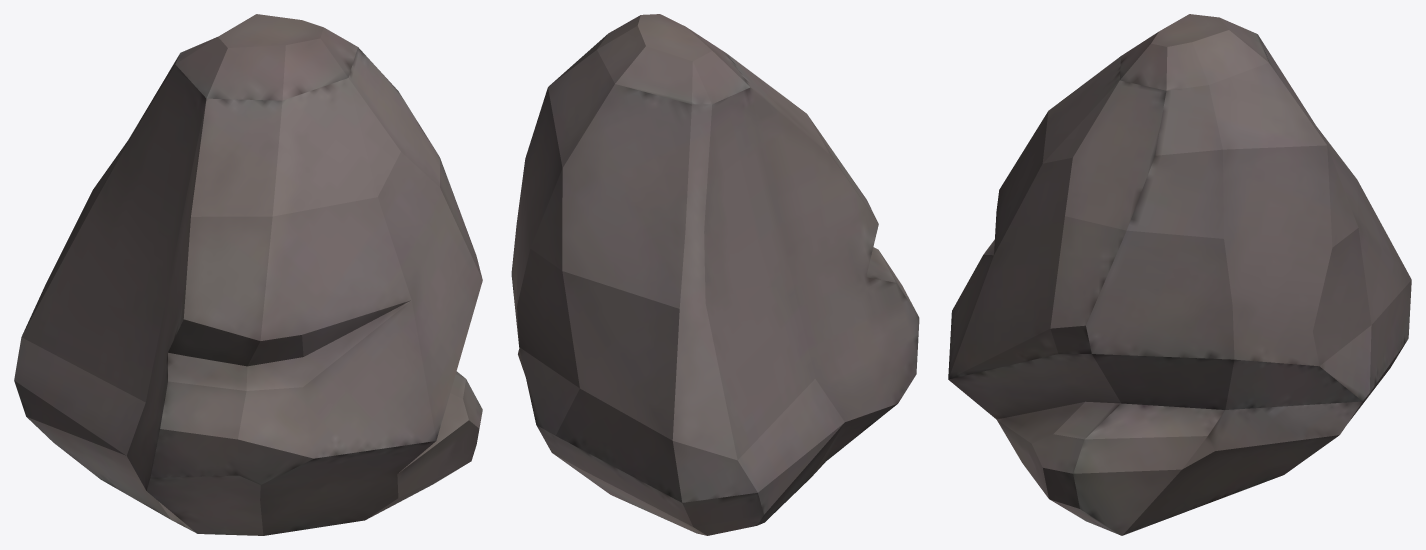
The picture shows the model from 3 angles, left to right: view 1: azimuth 30°, elevation 25°; view 2: azimuth 150°, elevation 25°; view 3: azimuth 270°, elevation 25°; orthographic projection. The views are drawn at different scales.
Parts seen in each view (by area): view 1: body0_model0_lod0_mesh0; view 2: body0_model0_lod0_mesh0; view 3: body0_model0_lod0_mesh0.
Part boxes in pixels (x1=…): body0_model0_lod0_mesh0: x1=14, y1=14, x2=482, y2=535; body0_model0_lod0_mesh0: x1=511, y1=14, x2=919, y2=535; body0_model0_lod0_mesh0: x1=948, y1=14, x2=1411, y2=535.
Size of the model in its own units: 272 by 340 by 323.
Materials: 1 (1 with a texture image).
